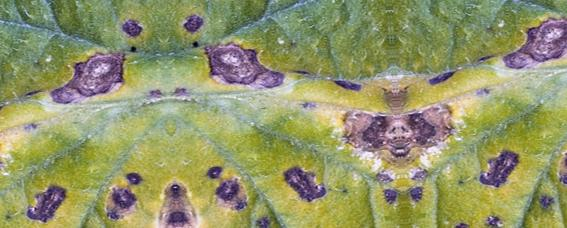Tomato Septoria leaf spot: (152, 0, 419, 228)
